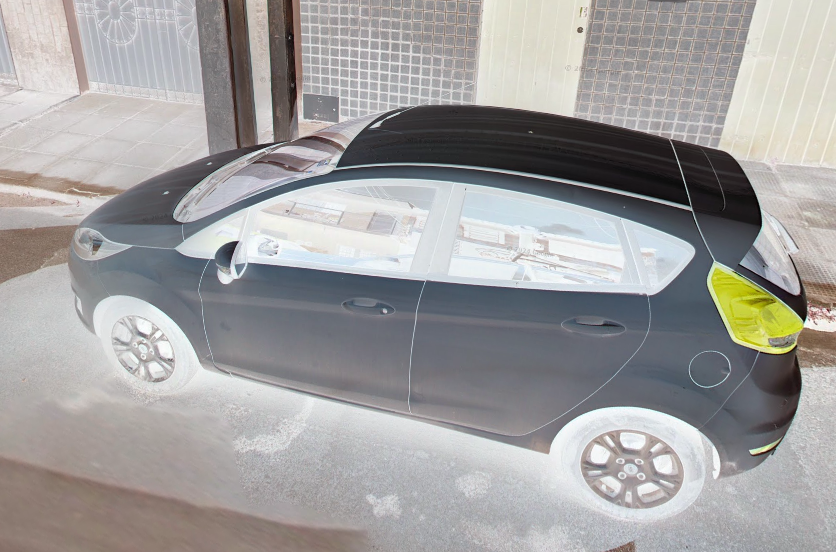car: (68, 103, 806, 522)
